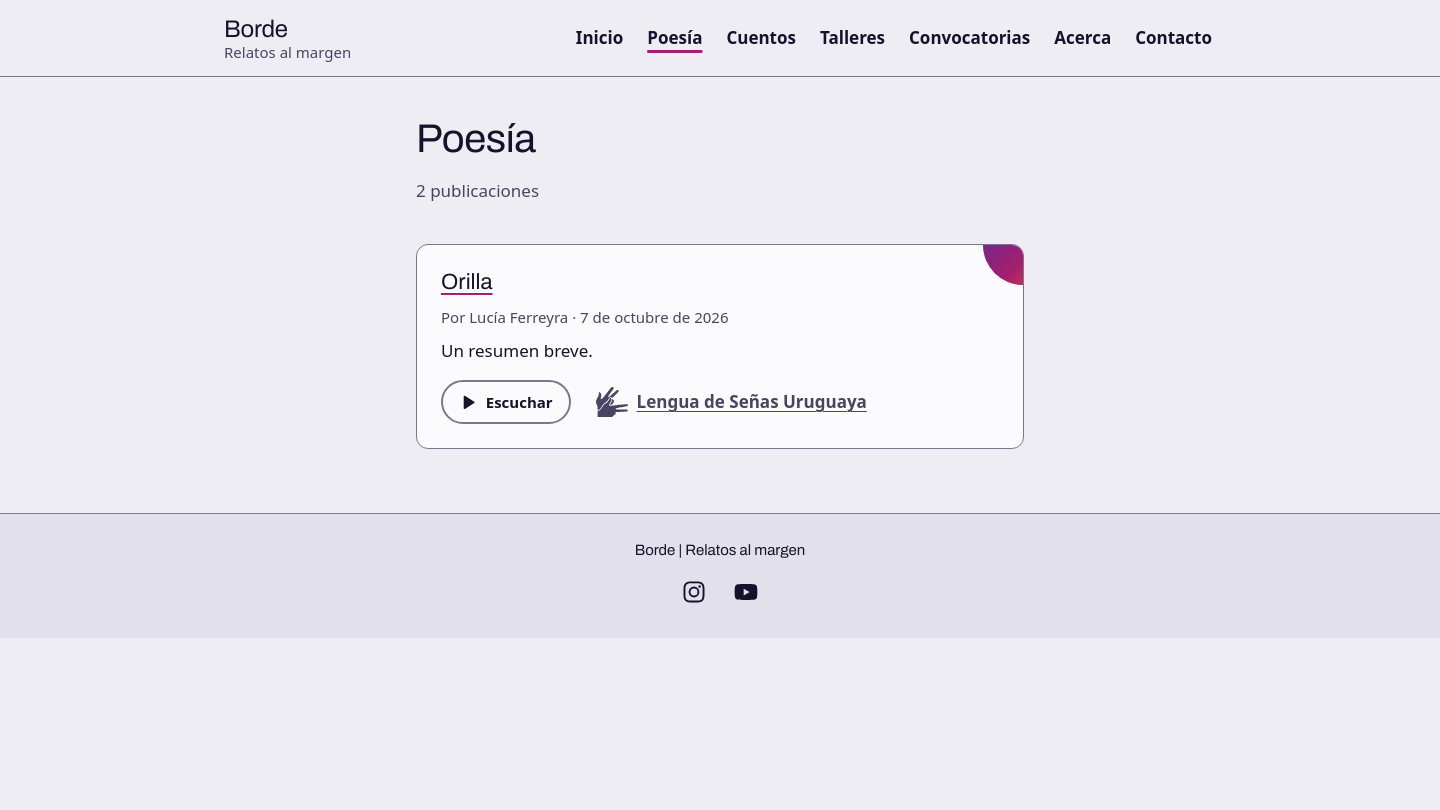
Test: Tarjetas con audio y lengua de señas › si el audio no se puede reproducir, se avisa con texto y en la región viva
Expected: the heading "Poesía" is shown, [416,117,536,160]
Click the button named "Escuchar «Orilla»". click: (506, 402)
box: [441,380,571,424]
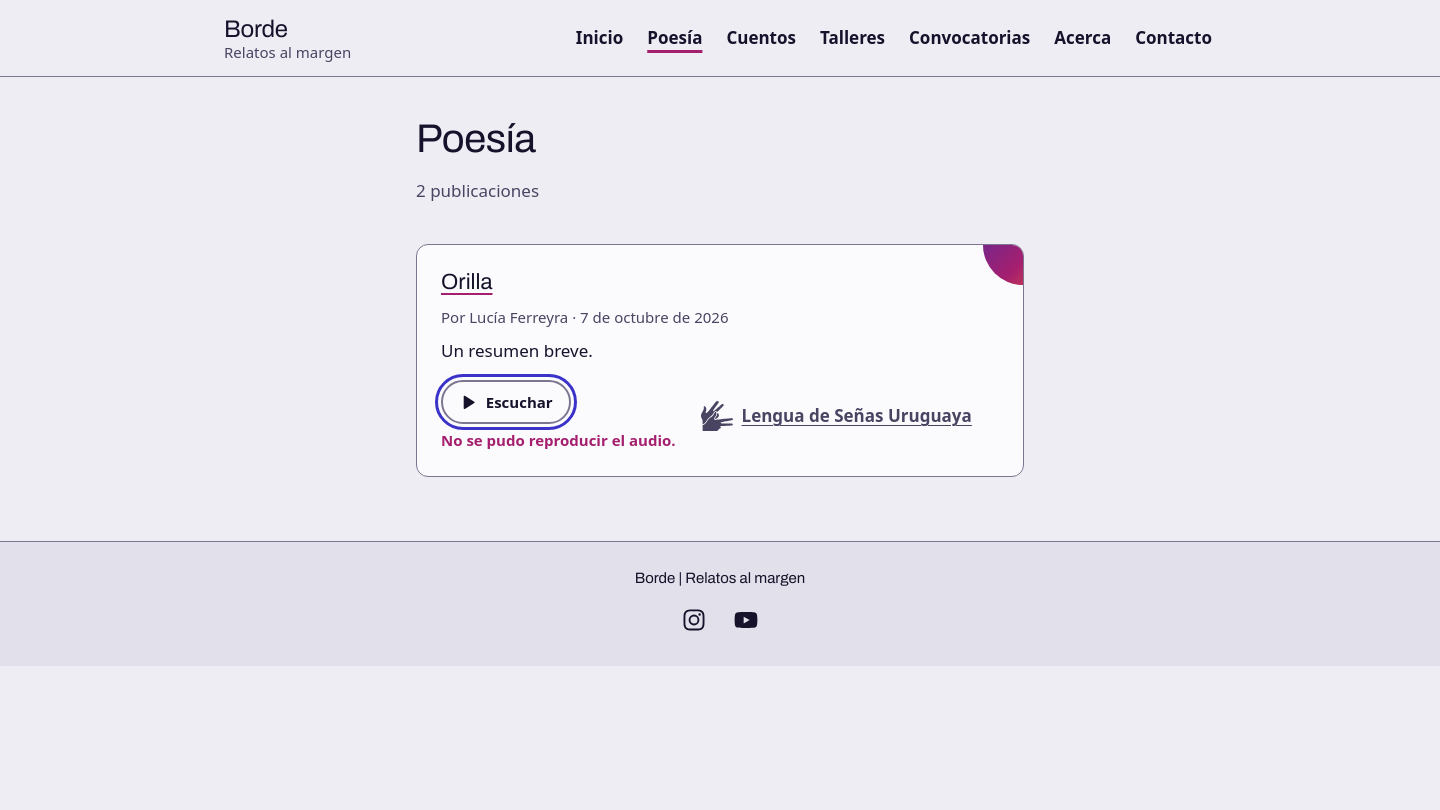
Now the text "No se pudo reproducir el audio." is shown, box [441,428,676,452]
